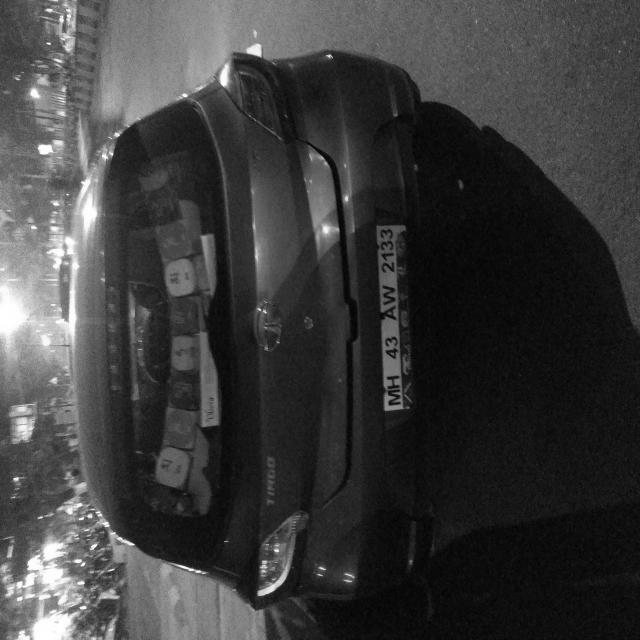car: (24, 88, 444, 597)
license-plate: (168, 498, 317, 554)
